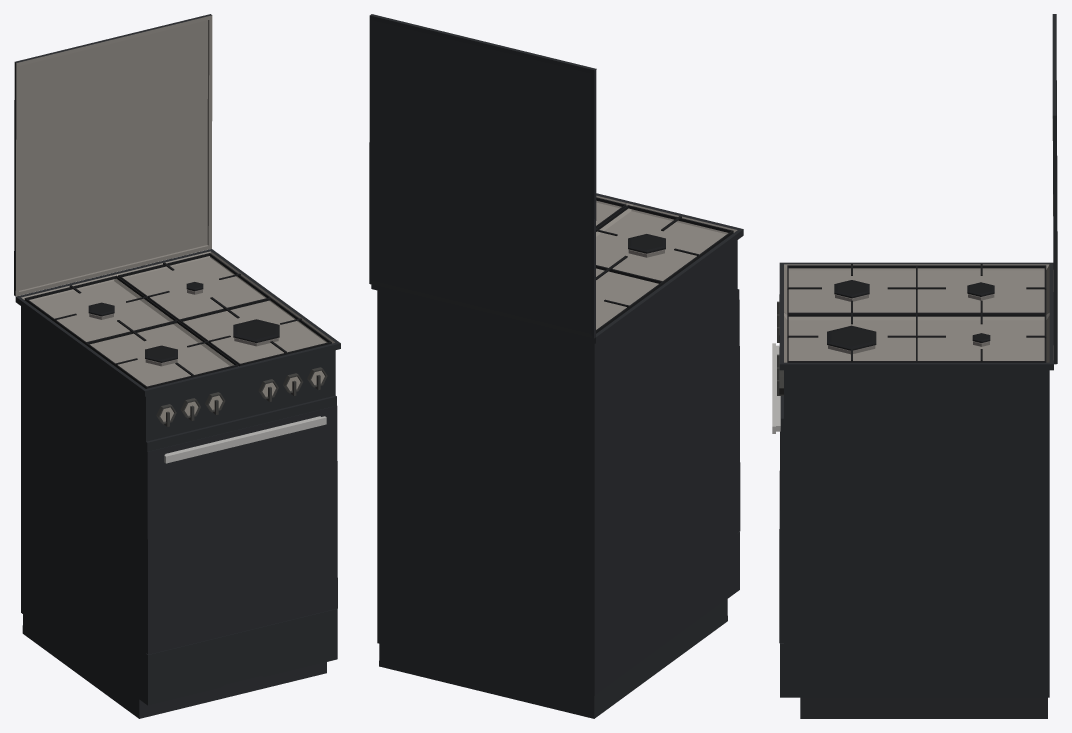
File: kitchenstove_01_E.gltf
3 renders of one model, left to right at view 1: azimuth 30°, elevation 25°; view 2: azimuth 150°, elevation 25°; view 3: azimuth 270°, elevation 25°, orthographic. The views are drawn at different scales.
Parts seen in each view (by area): view 1: kitchenstove_01_E.001, coverforgasstove_01_E, kitchenstove_01_E, pulloutshelfforgasstove_01_E; view 2: kitchenstove_01_E.001, coverforgasstove_01_E, kitchenstove_01_E; view 3: kitchenstove_01_E.001, coverforgasstove_01_E, kitchenstove_01_E.
Boxes of the visible parts, x1,y1,x2,y2 form: kitchenstove_01_E.001: (15, 249, 340, 718); coverforgasstove_01_E: (14, 14, 212, 296); kitchenstove_01_E: (145, 405, 337, 654); pulloutshelfforgasstove_01_E: (146, 608, 337, 705); kitchenstove_01_E.001: (371, 193, 743, 718); coverforgasstove_01_E: (369, 14, 596, 338); kitchenstove_01_E: (737, 300, 740, 532); kitchenstove_01_E.001: (779, 262, 1053, 718); coverforgasstove_01_E: (1052, 14, 1057, 364); kitchenstove_01_E: (772, 343, 783, 643).
Bounding box in the file's own units: 0.5166 × 1.43 × 0.6127.
1 material, 1 textured.
